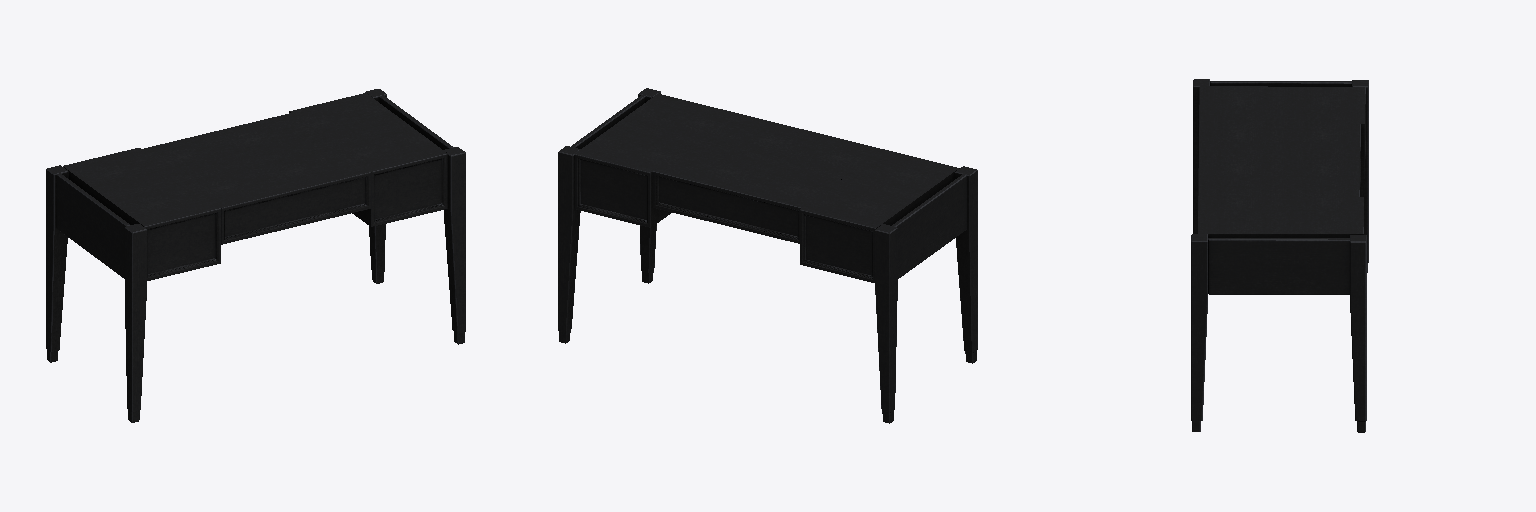
3 views of the same model, side by side, from view 1: azimuth 30°, elevation 25°; view 2: azimuth 150°, elevation 25°; view 3: azimuth 270°, elevation 25° (orthographic).
Visible parts, largest first — view 1: solid_001, solid_002; view 2: solid_001, solid_002; view 3: solid_001, solid_002.
Boxes of the visible parts, x1=… form: solid_001: x1=57, y1=93, x2=453, y2=280; solid_002: x1=46, y1=89, x2=465, y2=422; solid_001: x1=571, y1=94, x2=966, y2=282; solid_002: x1=558, y1=88, x2=977, y2=423; solid_001: x1=1198, y1=81, x2=1365, y2=294; solid_002: x1=1191, y1=79, x2=1368, y2=432.
Bounding box in the file's own units: 1.34 × 0.7315 × 0.6144.
Materials: 1 (1 with a texture image).